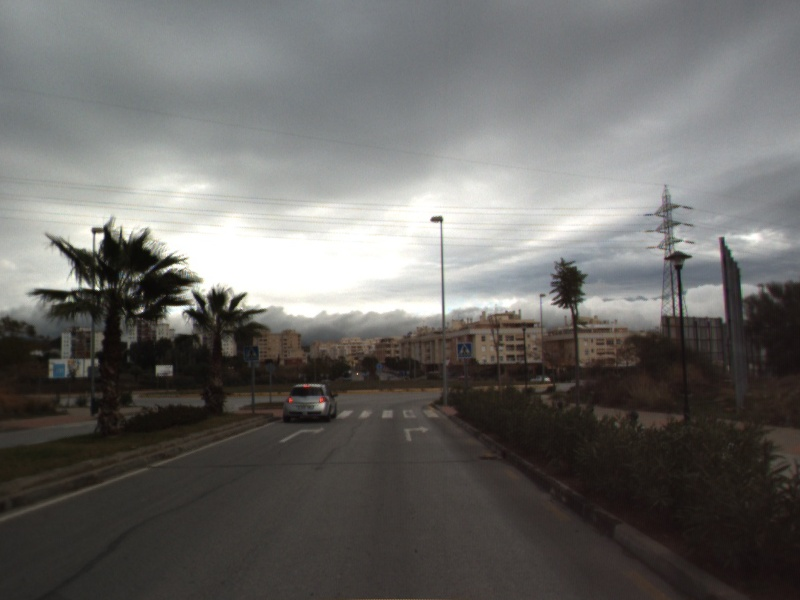RIGHT: (276, 425, 327, 445), (402, 422, 431, 443)
